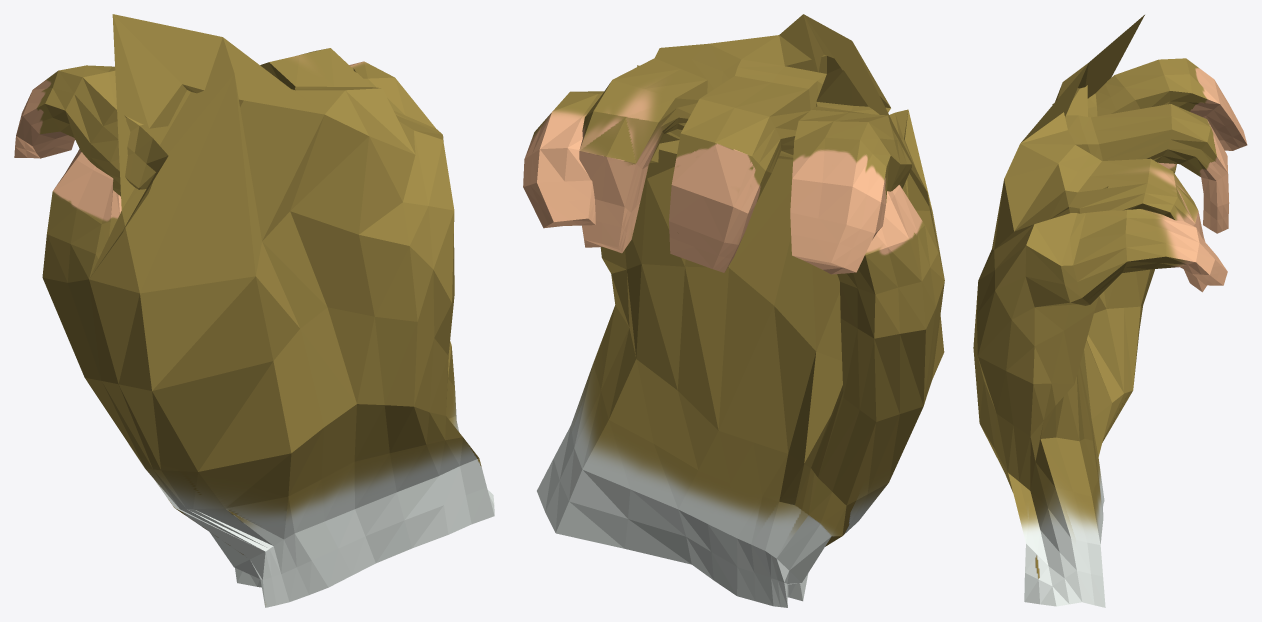
The model's file is grip0060.obj.
3 renders of one model, left to right at view 1: azimuth 30°, elevation 25°; view 2: azimuth 150°, elevation 25°; view 3: azimuth 270°, elevation 25°, orthographic. The views are drawn at different scales.
Visible parts, largest first — view 1: Hand; view 2: Hand; view 3: Hand.
Part boxes in pixels (x1=…): Hand: x1=14, y1=14, x2=494, y2=607; Hand: x1=523, y1=14, x2=944, y2=607; Hand: x1=973, y1=15, x2=1247, y2=607.
Size of the model in its own units: 2.74 by 3.8 by 1.88.
